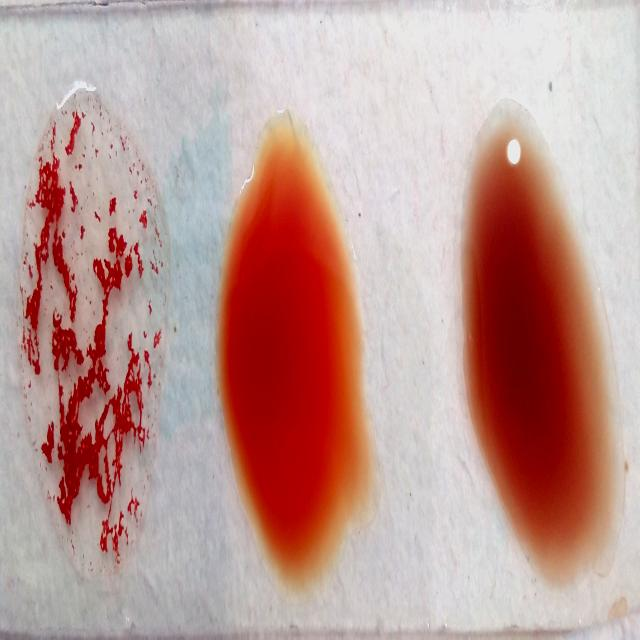D: (16, 67, 167, 581)
